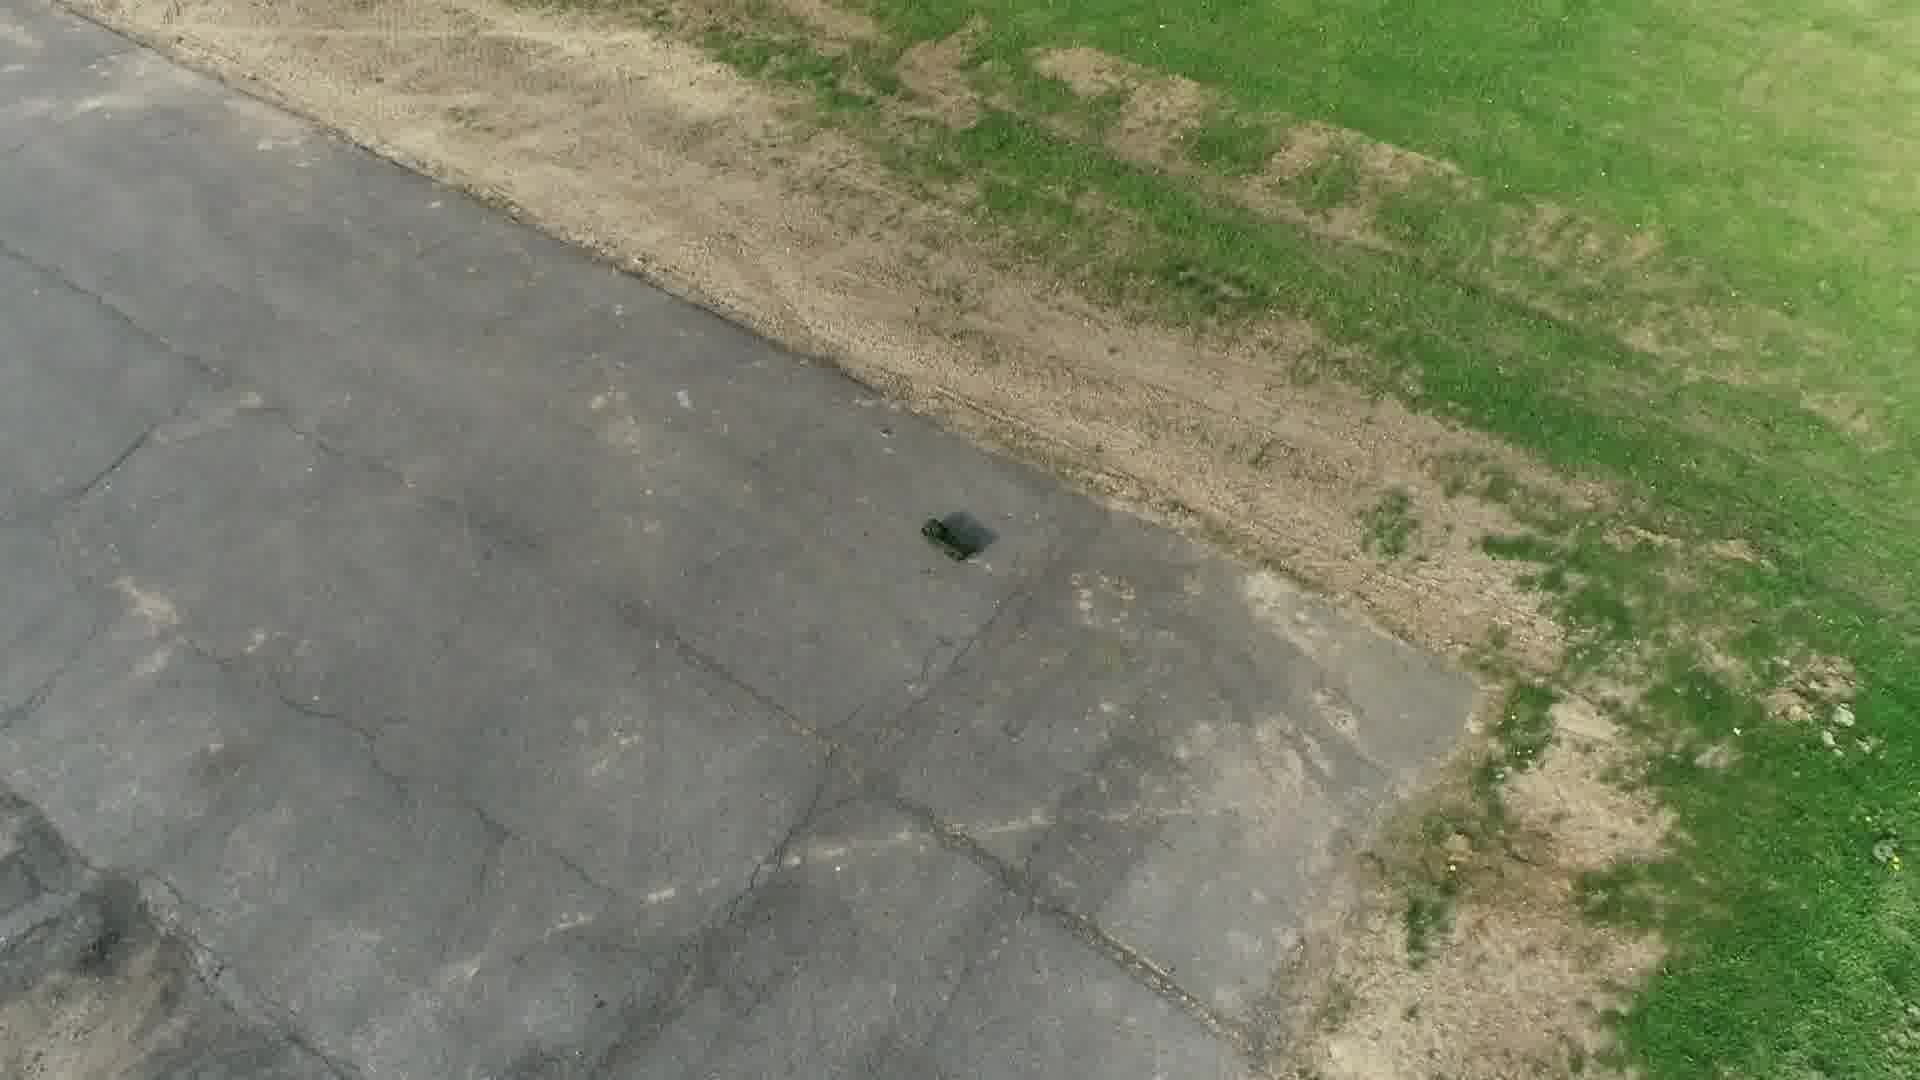transporter9: (919, 517, 978, 568)
